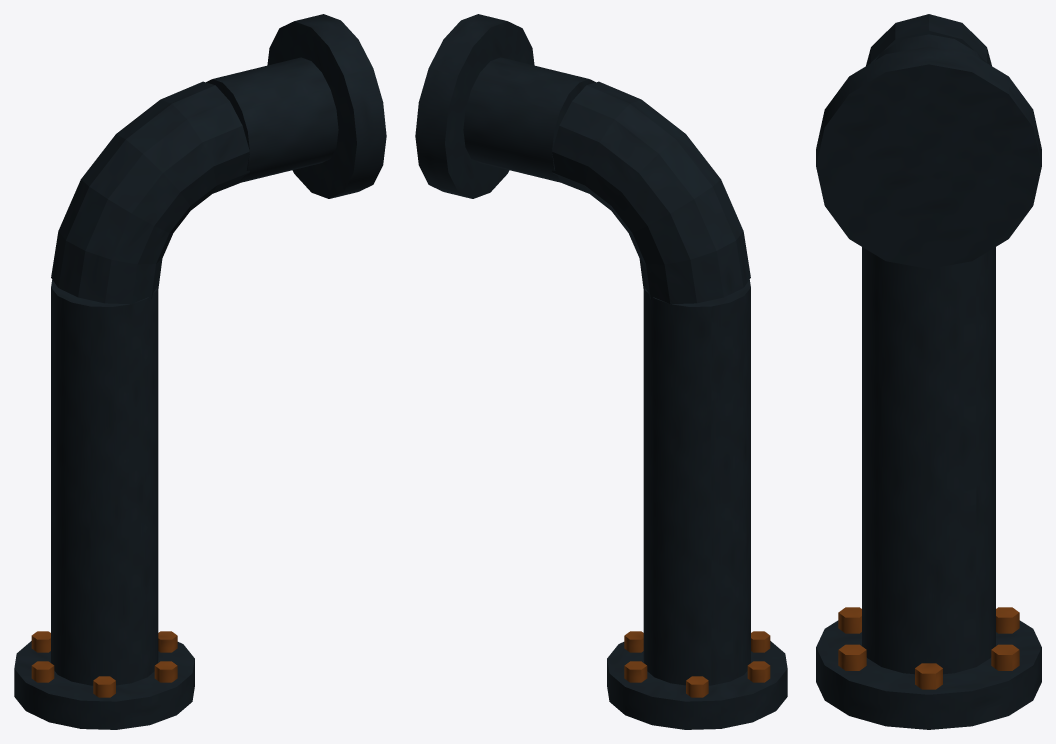
File: pipe_elbow.glb
3 views of the same model, side by side, from view 1: azimuth 30°, elevation 25°; view 2: azimuth 150°, elevation 25°; view 3: azimuth 270°, elevation 25° (orthographic). The views are drawn at different scales.
Visible parts, largest first — view 1: pipe_elbow; view 2: pipe_elbow; view 3: pipe_elbow.
Boxes of the visible parts, bbox=[...] form: pipe_elbow: bbox=[14, 14, 386, 729]; pipe_elbow: bbox=[415, 14, 787, 729]; pipe_elbow: bbox=[816, 14, 1041, 729].
Bounding box in the file's own units: 0.64 × 1.19 × 0.32.
Materials: 2 (2 with a texture image).
